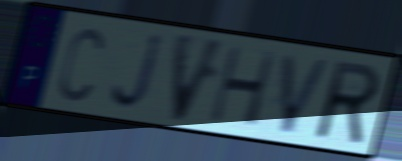C: (56, 24, 106, 104)
H: (207, 43, 280, 130)
J: (109, 31, 167, 114)
R: (315, 57, 383, 148)
V: (168, 29, 230, 126), (277, 50, 335, 137)
